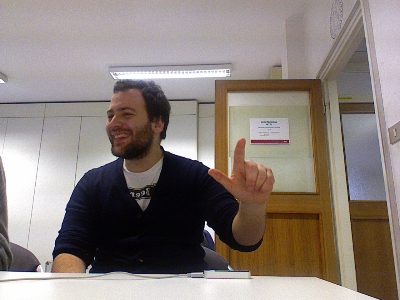枪: (206, 137, 274, 204)
